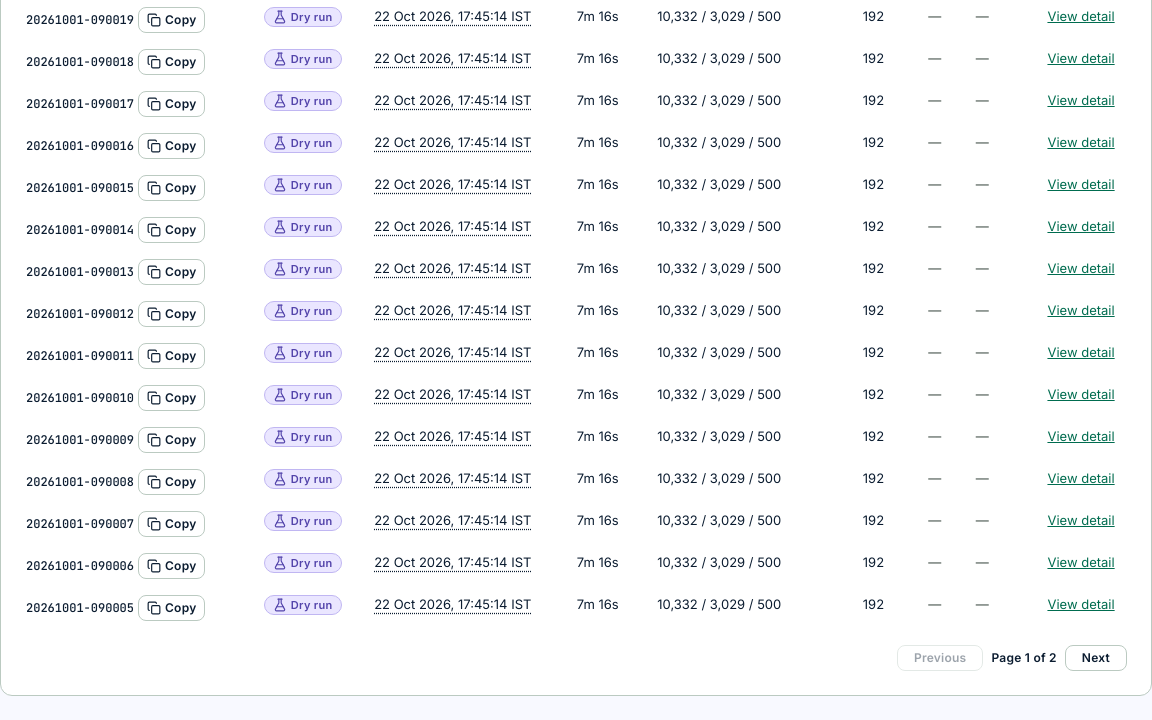
Test: runs table › pages 25 rows at a time
This screenshot has width=1152, height=720.
(page scrolled)
What coordinates should you click on to do the following:
click the button with aria-label "Next page"
I would click on:
 (1096, 658)
Its box is [1065,645,1127,671].
(page scrolled)
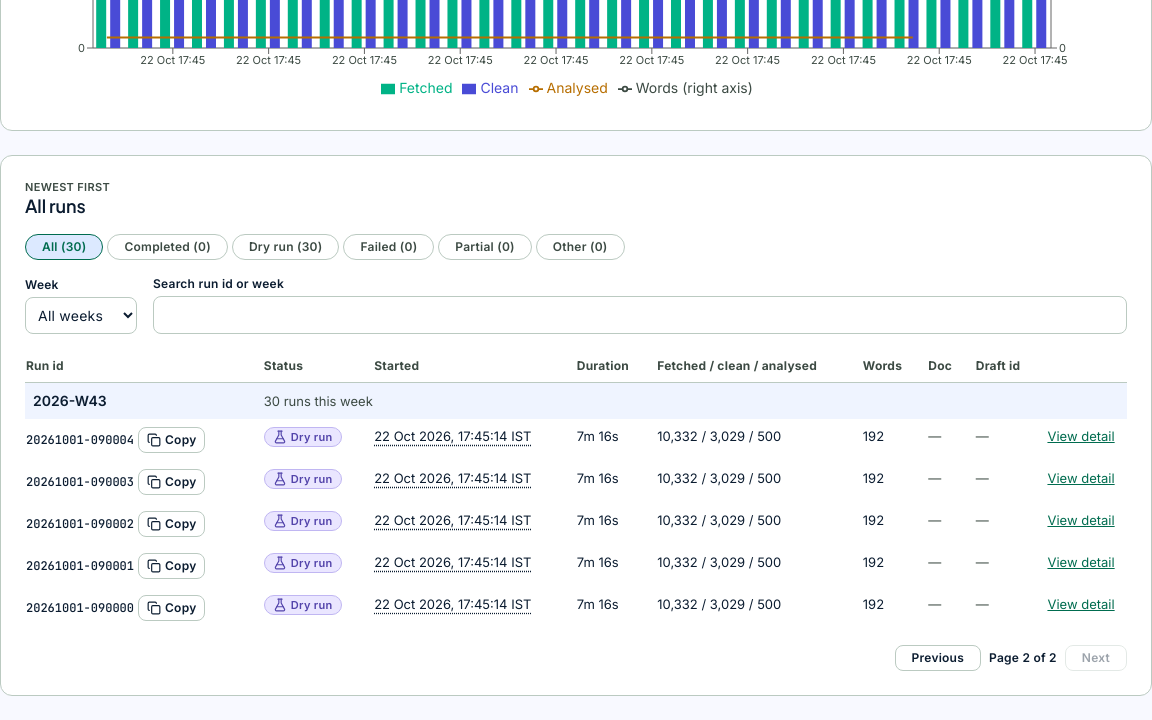
Now the number of links "View detail" is 5, box [1047,428,1115,444]; [1047,470,1115,486]; [1047,512,1115,528]; [1047,554,1115,570]; [1047,596,1115,612]
